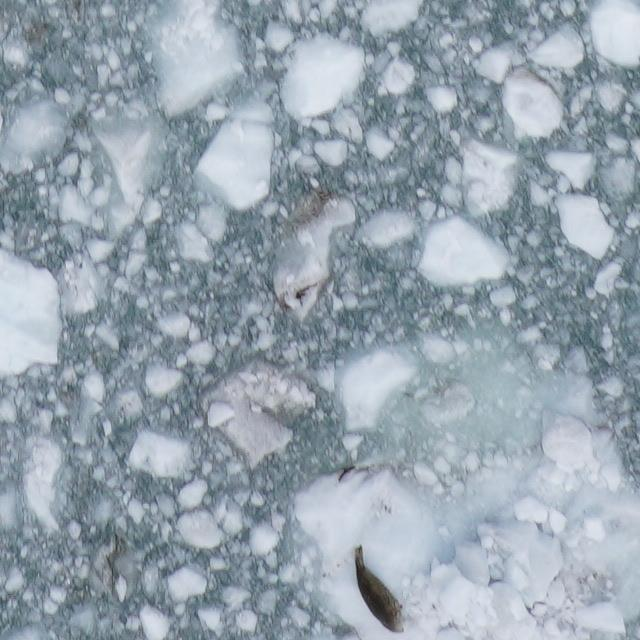seal: (349, 542, 408, 636)
